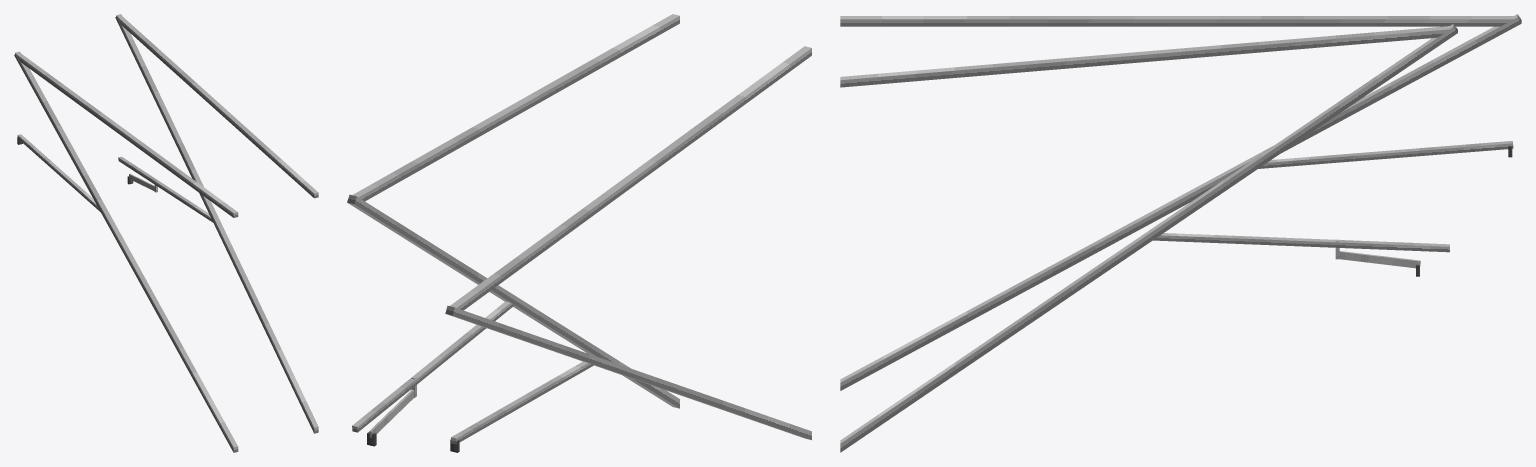
Rendered from cantilever_inner_8px.obj.
The picture shows the model from 3 angles, left to right: view 1: azimuth 30°, elevation 25°; view 2: azimuth 150°, elevation 25°; view 3: azimuth 270°, elevation 25°; orthographic projection. The views are drawn at different scales.
Parts seen in each view (by area): view 1: bc0453b0-0ebf-41e4-962f-0ac93dee3f96, df0f5e67-595b-495b-b6b7-eee85f2fbf65, 40eb2f40-b75b-4933-9d11-52c79c7c87c4, 30457fda-8e45-4683-8d91-9783c2f0fe51, 6e11b68e-39db-4491-9e4b-b1957efc33ed, 5f82167a-e6f8-42ad-ba10-6b6db616c59a; view 2: 40eb2f40-b75b-4933-9d11-52c79c7c87c4, 30457fda-8e45-4683-8d91-9783c2f0fe51, bc0453b0-0ebf-41e4-962f-0ac93dee3f96, df0f5e67-595b-495b-b6b7-eee85f2fbf65, 6e11b68e-39db-4491-9e4b-b1957efc33ed, 5f82167a-e6f8-42ad-ba10-6b6db616c59a, 5be06308-d708-4f1e-807f-3e21427b5c8b; view 3: df0f5e67-595b-495b-b6b7-eee85f2fbf65, bc0453b0-0ebf-41e4-962f-0ac93dee3f96, 40eb2f40-b75b-4933-9d11-52c79c7c87c4, 30457fda-8e45-4683-8d91-9783c2f0fe51, 6e11b68e-39db-4491-9e4b-b1957efc33ed, 5f82167a-e6f8-42ad-ba10-6b6db616c59a, 5be06308-d708-4f1e-807f-3e21427b5c8b.
Boxes of the visible parts, x1=… form: bc0453b0-0ebf-41e4-962f-0ac93dee3f96: x1=14, y1=51, x2=238, y2=452; df0f5e67-595b-495b-b6b7-eee85f2fbf65: x1=115, y1=14, x2=318, y2=433; 40eb2f40-b75b-4933-9d11-52c79c7c87c4: x1=17, y1=53, x2=238, y2=217; 30457fda-8e45-4683-8d91-9783c2f0fe51: x1=118, y1=16, x2=318, y2=198; 6e11b68e-39db-4491-9e4b-b1957efc33ed: x1=118, y1=156, x2=212, y2=222; 5f82167a-e6f8-42ad-ba10-6b6db616c59a: x1=17, y1=134, x2=100, y2=211; 40eb2f40-b75b-4933-9d11-52c79c7c87c4: x1=450, y1=46, x2=811, y2=310; 30457fda-8e45-4683-8d91-9783c2f0fe51: x1=352, y1=14, x2=679, y2=201; bc0453b0-0ebf-41e4-962f-0ac93dee3f96: x1=445, y1=305, x2=811, y2=440; df0f5e67-595b-495b-b6b7-eee85f2fbf65: x1=347, y1=194, x2=679, y2=408; 6e11b68e-39db-4491-9e4b-b1957efc33ed: x1=352, y1=301, x2=514, y2=432; 5f82167a-e6f8-42ad-ba10-6b6db616c59a: x1=450, y1=361, x2=594, y2=444; 5be06308-d708-4f1e-807f-3e21427b5c8b: x1=369, y1=389, x2=414, y2=438; df0f5e67-595b-495b-b6b7-eee85f2fbf65: x1=840, y1=24, x2=1457, y2=452; bc0453b0-0ebf-41e4-962f-0ac93dee3f96: x1=840, y1=14, x2=1521, y2=390; 40eb2f40-b75b-4933-9d11-52c79c7c87c4: x1=840, y1=16, x2=1514, y2=26; 30457fda-8e45-4683-8d91-9783c2f0fe51: x1=840, y1=26, x2=1449, y2=87; 6e11b68e-39db-4491-9e4b-b1957efc33ed: x1=1153, y1=233, x2=1449, y2=252; 5f82167a-e6f8-42ad-ba10-6b6db616c59a: x1=1258, y1=141, x2=1513, y2=168; 5be06308-d708-4f1e-807f-3e21427b5c8b: x1=1339, y1=251, x2=1420, y2=268.
Bounding box in the file's own units: 1.19 × 3.66 × 5.31.
